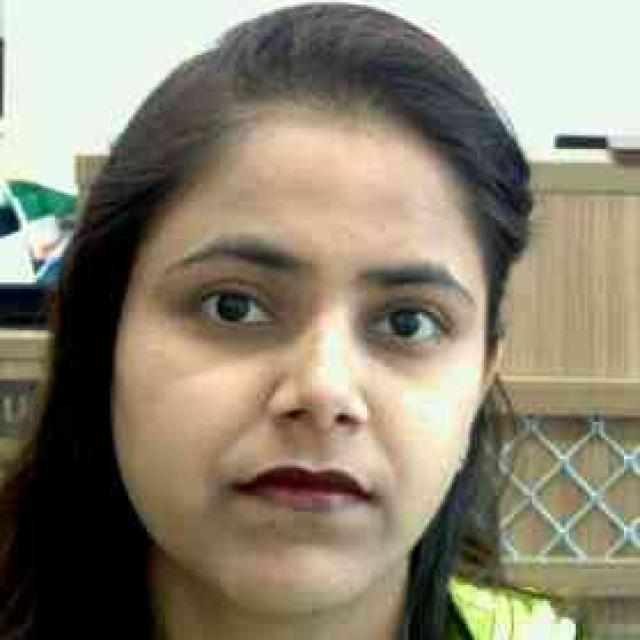Puffy Eyes - v3 Dark Circle: (190, 323, 292, 354)
